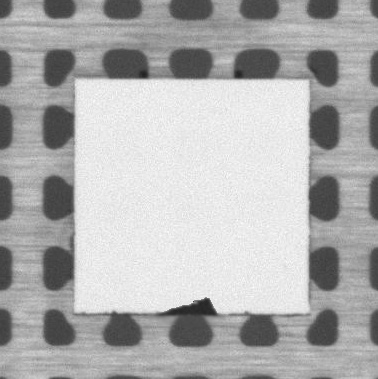DIE_BROKEN: (159, 295, 221, 316)
